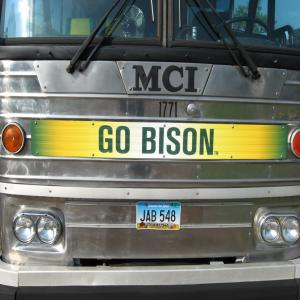Vehicle-registration-plate: (136, 204, 184, 244)
